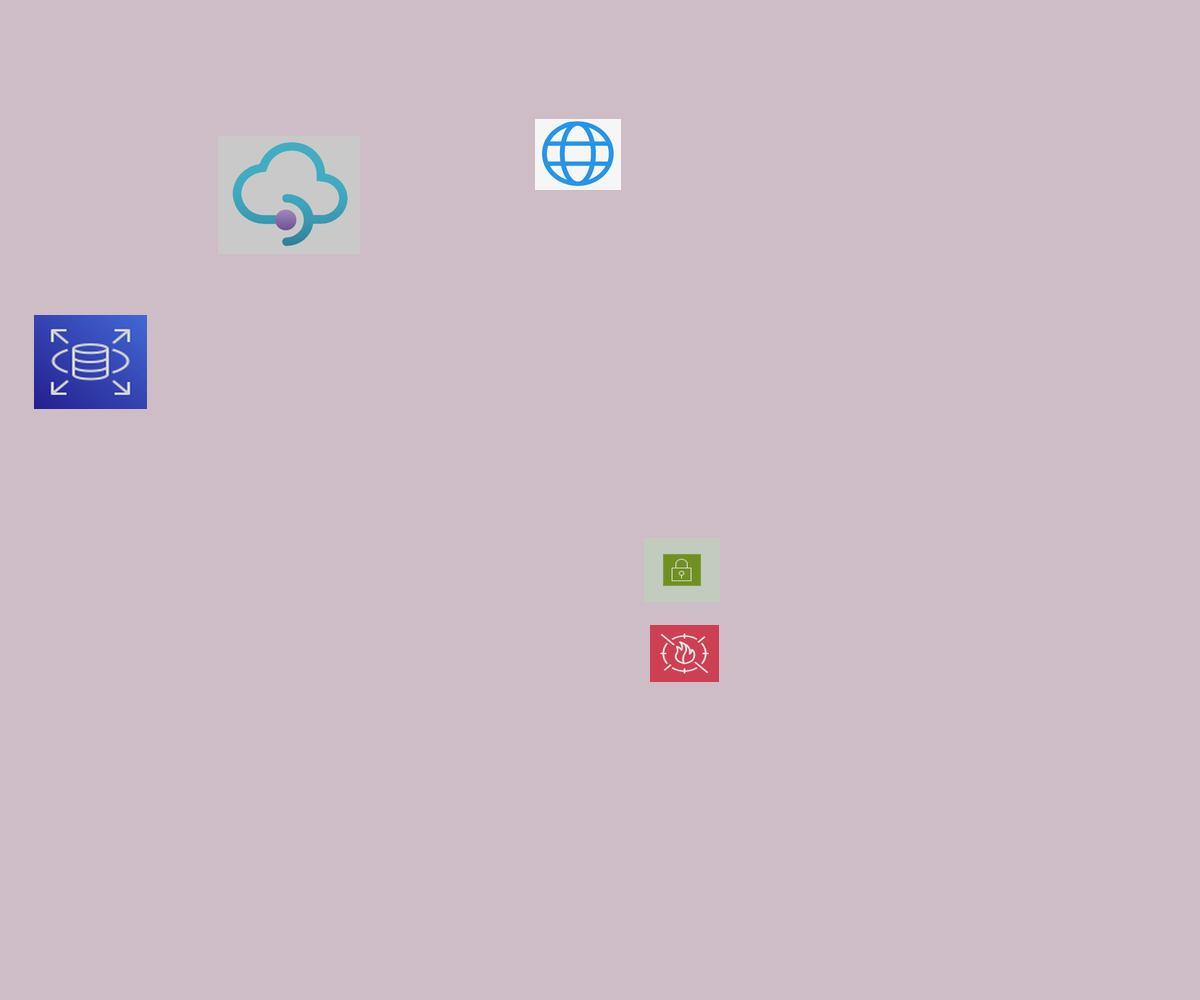AWS-Public-subnet: (644, 538, 720, 602)
AWS-RDS: (34, 315, 147, 409)
AWS-WAF: (650, 625, 719, 682)
Azure_api_gateway: (218, 136, 360, 254)
Azure_http: (535, 119, 621, 190)
